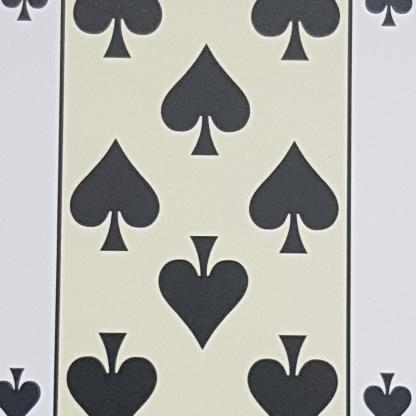8s: (353, 360, 415, 415), (0, 360, 47, 415)
